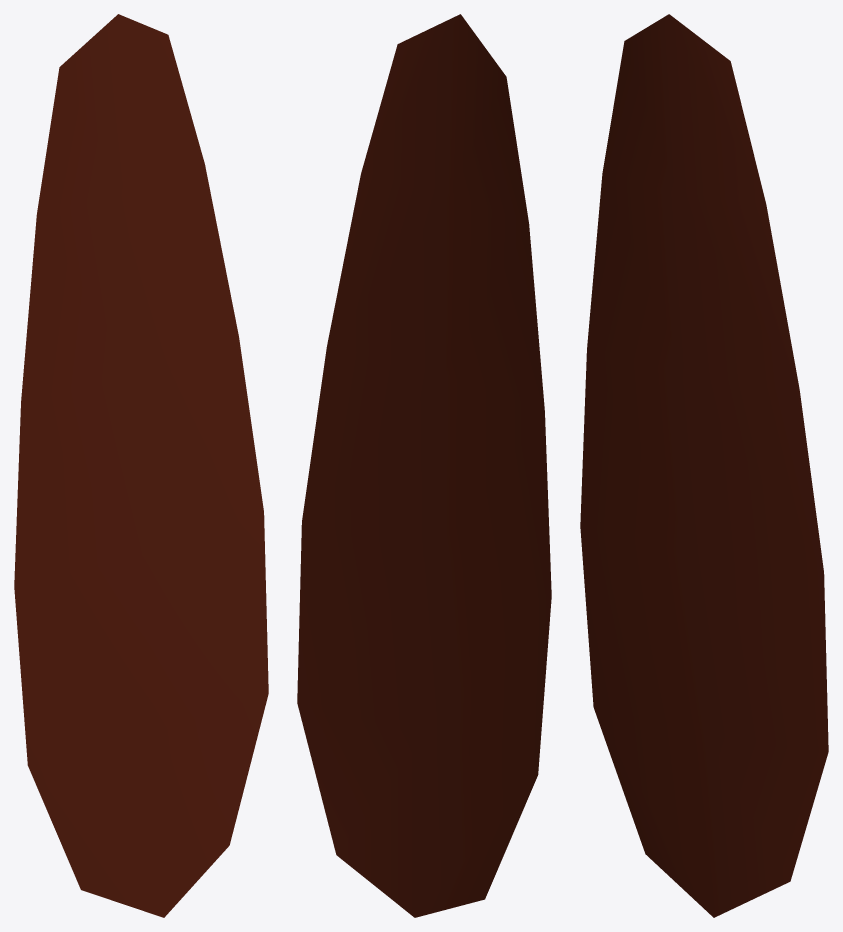
Rendered from finch_feather_flight_tertiary_009.obj.
The picture shows the model from 3 angles, left to right: view 1: azimuth 30°, elevation 25°; view 2: azimuth 150°, elevation 25°; view 3: azimuth 330°, elevation 25°; orthographic projection. The views are drawn at different scales.
Parts seen in each view (by area): view 1: feather_flight_tertiary_009; view 2: feather_flight_tertiary_009; view 3: feather_flight_tertiary_009.
Part boxes in pixels (left/top/right/bottom): feather_flight_tertiary_009: left=14, top=14, right=268, bottom=917; feather_flight_tertiary_009: left=297, top=14, right=551, bottom=917; feather_flight_tertiary_009: left=580, top=14, right=828, bottom=917.
Bounding box in the file's own units: 0.00344 × 0.0118 × 0.000152.
